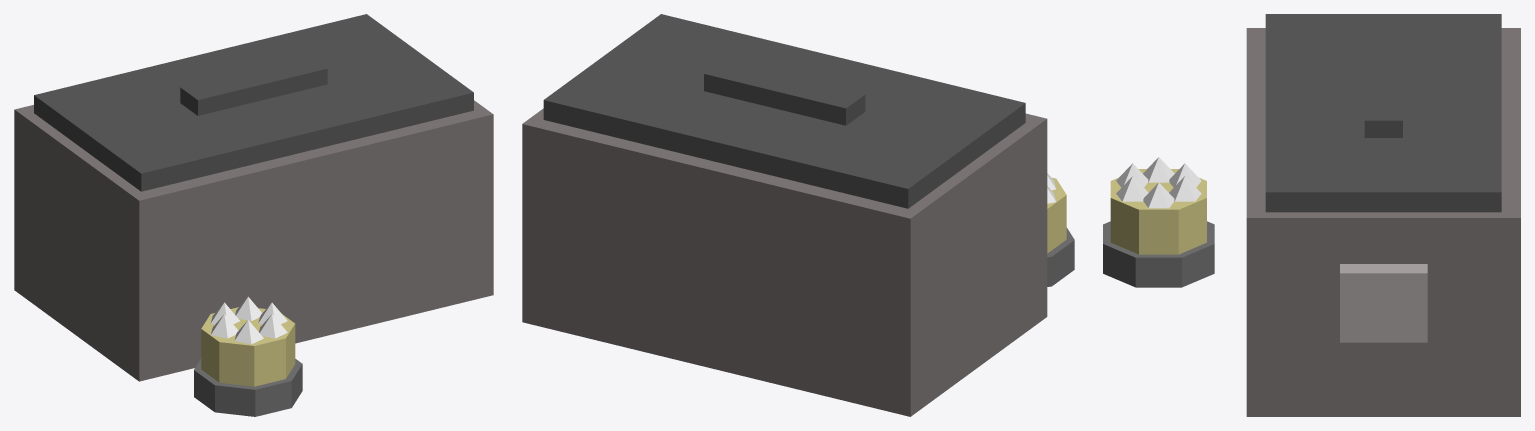
File: ce_ammo_revolver_ap_c.obj
The picture shows the model from 3 angles, left to right: view 1: azimuth 30°, elevation 25°; view 2: azimuth 150°, elevation 25°; view 3: azimuth 270°, elevation 25°; orthographic projection. The views are drawn at different scales.
Visible parts, largest first — view 1: ce_ammo_revolver_ap_c_0, ce_ammo_revolver_ap_c_1, ce_ammo_revolver_ap_c_5, ce_ammo_revolver_ap_c_2, ce_ammo_revolver_ap_c_4; view 2: ce_ammo_revolver_ap_c_0, ce_ammo_revolver_ap_c_1, ce_ammo_revolver_ap_c_2, ce_ammo_revolver_ap_c_5, ce_ammo_revolver_ap_c_4; view 3: ce_ammo_revolver_ap_c_0, ce_ammo_revolver_ap_c_1, ce_ammo_revolver_ap_c_3, ce_ammo_revolver_ap_c_5, ce_ammo_revolver_ap_c_4, ce_ammo_revolver_ap_c_2, ce_ammo_revolver_ap_c_6, ce_ammo_revolver_ap_c_11, ce_ammo_revolver_ap_c_7, ce_ammo_revolver_ap_c_9.
Part boxes in pixels (x1=…): ce_ammo_revolver_ap_c_0: x1=14, y1=100, x2=493, y2=381; ce_ammo_revolver_ap_c_1: x1=34, y1=14, x2=473, y2=191; ce_ammo_revolver_ap_c_5: x1=201, y1=307, x2=295, y2=386; ce_ammo_revolver_ap_c_2: x1=180, y1=56, x2=327, y2=115; ce_ammo_revolver_ap_c_4: x1=194, y1=358, x2=302, y2=416; ce_ammo_revolver_ap_c_0: x1=522, y1=108, x2=1047, y2=416; ce_ammo_revolver_ap_c_1: x1=543, y1=14, x2=1025, y2=208; ce_ammo_revolver_ap_c_2: x1=704, y1=60, x2=865, y2=125; ce_ammo_revolver_ap_c_5: x1=1047, y1=177, x2=1066, y2=253; ce_ammo_revolver_ap_c_4: x1=1047, y1=227, x2=1074, y2=286; ce_ammo_revolver_ap_c_0: x1=1246, y1=28, x2=1520, y2=416; ce_ammo_revolver_ap_c_1: x1=1265, y1=14, x2=1501, y2=212; ce_ammo_revolver_ap_c_3: x1=1340, y1=264, x2=1427, y2=342; ce_ammo_revolver_ap_c_5: x1=1110, y1=169, x2=1206, y2=254; ce_ammo_revolver_ap_c_4: x1=1103, y1=221, x2=1214, y2=287; ce_ammo_revolver_ap_c_2: x1=1364, y1=51, x2=1402, y2=137; ce_ammo_revolver_ap_c_6: x1=1143, y1=182, x2=1174, y2=208; ce_ammo_revolver_ap_c_11: x1=1116, y1=176, x2=1148, y2=201; ce_ammo_revolver_ap_c_7: x1=1169, y1=176, x2=1201, y2=201; ce_ammo_revolver_ap_c_9: x1=1143, y1=157, x2=1174, y2=182.
Bounding box in the file's own units: 0.86 × 0.475 × 0.7616.
